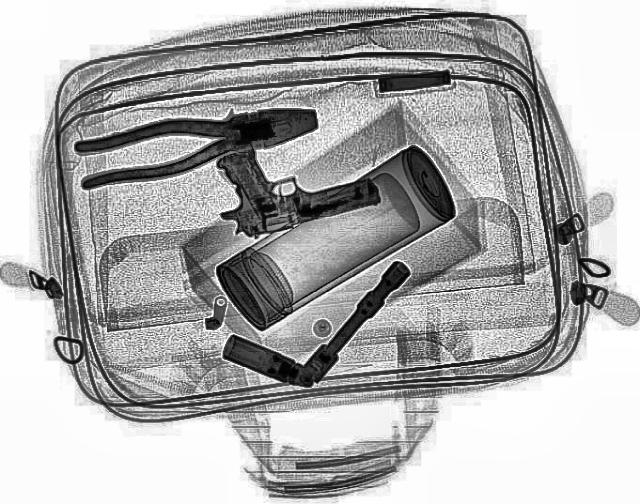Gun: (194, 118, 386, 244)
Pliers: (65, 92, 327, 190)
